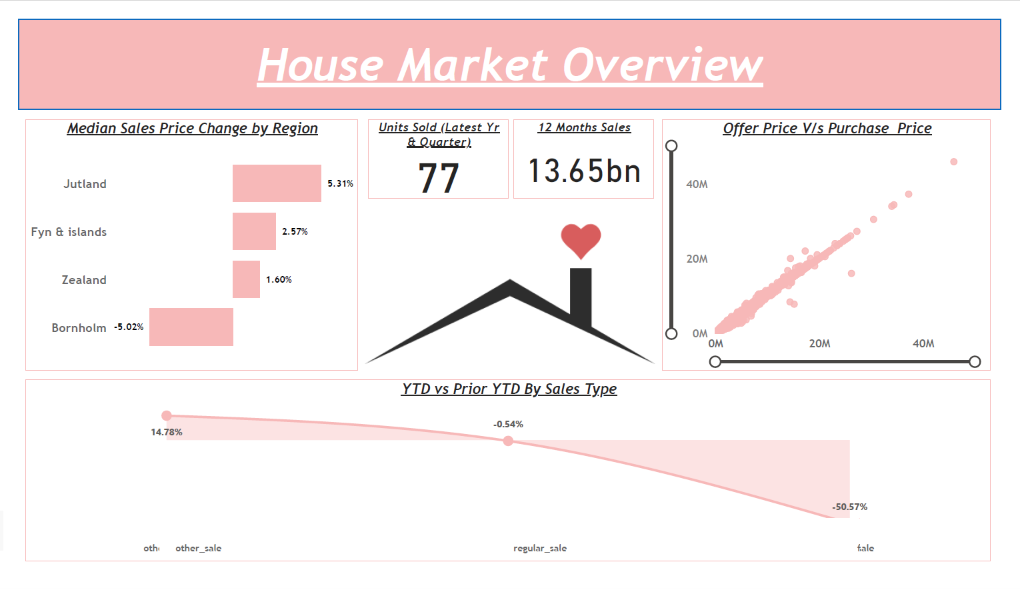

This screenshot's page, from the dashboard's own definition file:
{"tool":"powerbi","page":{"name":"House Market Overview","canvas":[1280,720],"ordinal":0},"visuals":[{"type":"shape","box":[0,0,1279,118.4],"z":0},{"type":"scatterChart","title":"Offer Price V/s Purchase_Price","fields":{"X":["Housing.Offer Price"],"Y":["Housing.purchase_price"]},"box":[837.8,129.7,428.3,328.2],"z":1000},{"type":"lineChart","title":"YTD vs Prior YTD By Sales Type","fields":{"Category":["Housing.sales_type"],"Y":["Housing.YOY Sales Growth"]},"box":[9.4,468.9,1256.6,237.6],"z":2000},{"type":"barChart","title":"Median Sales Price Change by Region","fields":{"Category":["Housing.region"],"Y":["Housing.Median Sales Price Change"]},"box":[9.4,129.7,432.9,328.2],"z":3000},{"type":"card","title":"Units Sold (Latest Yr & Quarter)","fields":{"Values":["Housing.Units Sold Lates Year & Quarter"]},"box":[454.8,129.7,182.9,104.7],"z":4000},{"type":"card","title":"12 Months Sales","fields":{"Values":["Housing.Last 12 Month Sales"]},"box":[644,129.7,182.9,104.7],"z":5000}]}

Visuals, with their boxes in screenshot pixels (x1, y1, x2, y2), scaled from the page's 1280x720 canvas onto the 1020x589 screenshot:
shape: box(0, 0, 1019, 97)
"Offer Price V/s Purchase_Price" scatterChart: box(668, 106, 1009, 375)
"YTD vs Prior YTD By Sales Type" lineChart: box(7, 384, 1009, 578)
"Median Sales Price Change by Region" barChart: box(7, 106, 352, 375)
"Units Sold (Latest Yr & Quarter)" card: box(362, 106, 508, 192)
"12 Months Sales" card: box(513, 106, 659, 192)
